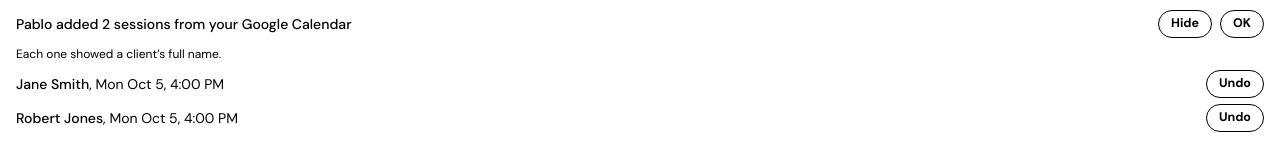
it: AutoBookedNotice › undoes one by cancelling its appointment
Click the button with aria-label "Undo Jane Smith" at x=1235, y=84, box [1206,70,1264,98]
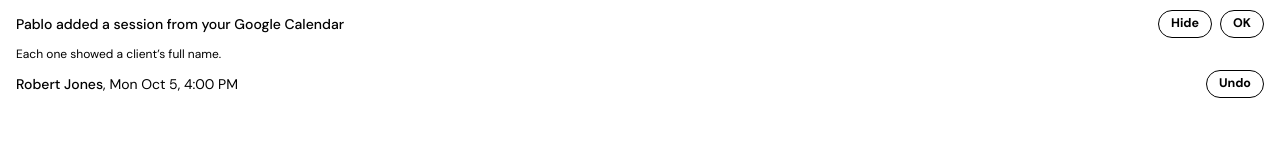
expect the text "Pablo added a session from your Google Calendar" is shown: met, box [16,14,344,34]
expect the text "Jane Smith" is gone: met
